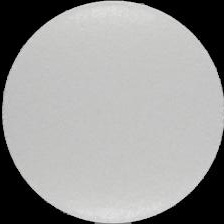50268-321: (0, 0, 224, 224)
